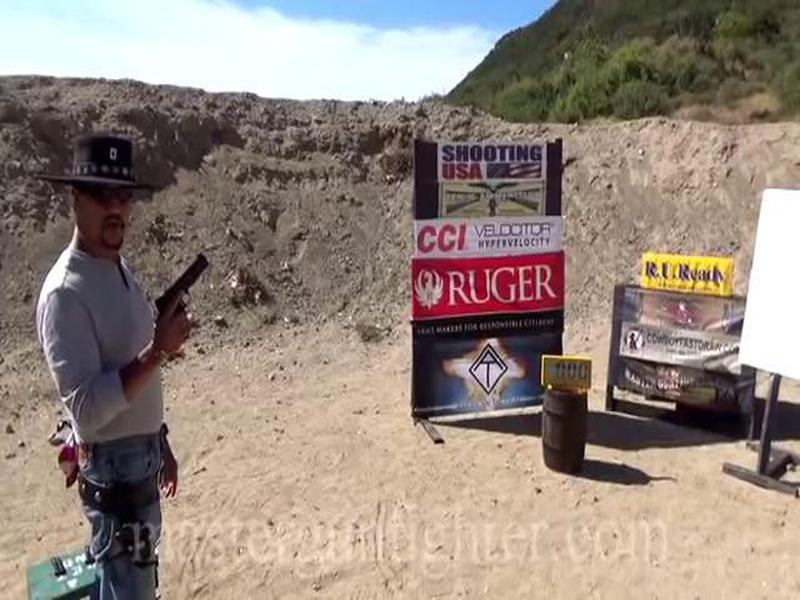Pistola: (151, 246, 227, 346)
